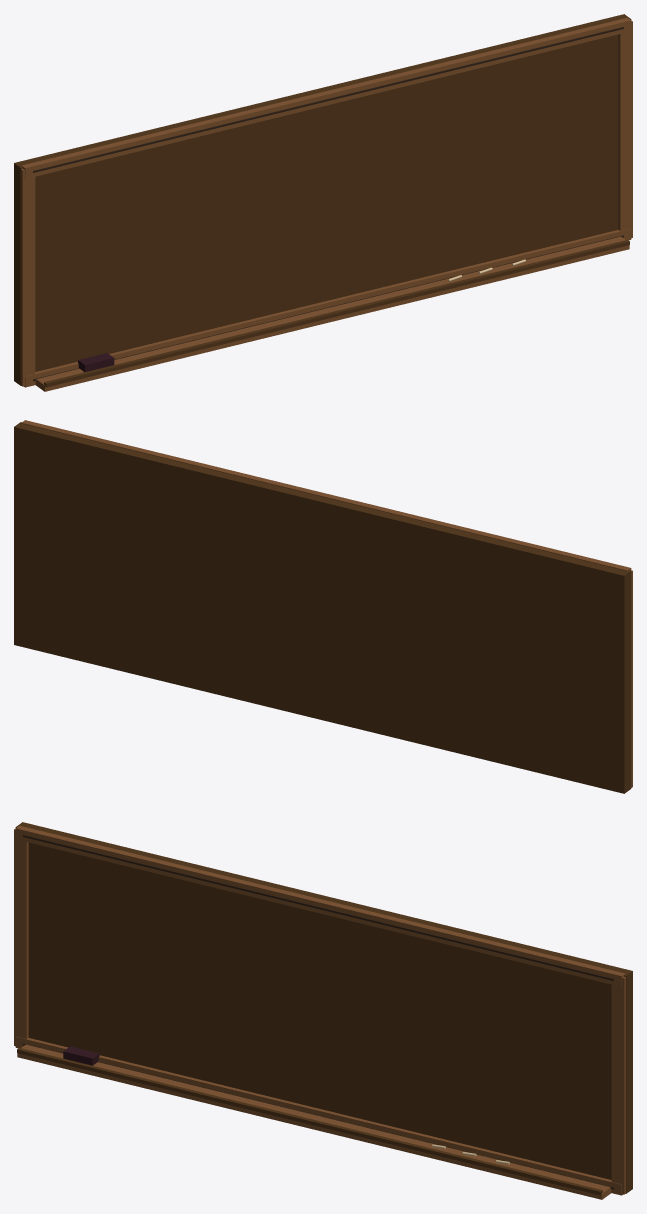
Rendered from mia-blackboard.glb.
The picture shows the model from 3 angles, top to bottom: view 1: azimuth 30°, elevation 25°; view 2: azimuth 150°, elevation 25°; view 3: azimuth 330°, elevation 25°; orthographic projection.
Parts seen in each view (by area): view 1: Body_wood, Body_oak, Body_grain; view 2: Body_wood, Body_oak; view 3: Body_wood, Body_oak, Body_grain.
Part boxes in pixels (x1,y1,x2,y2): Body_wood: [14, 14, 631, 387]; Body_oak: [21, 17, 632, 391]; Body_grain: [33, 27, 623, 381]; Body_wood: [14, 422, 631, 793]; Body_oak: [21, 420, 632, 787]; Body_wood: [15, 822, 632, 1195]; Body_oak: [14, 825, 625, 1199]; Body_grain: [23, 835, 613, 1189].
Size of the model in its own units: 4.39 by 1.51 by 0.2365.
